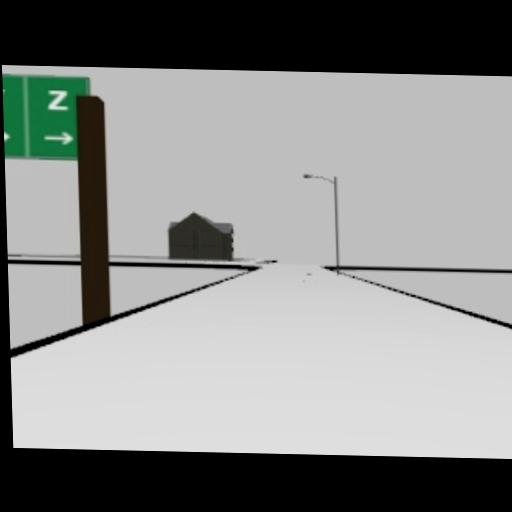Right: (42, 129, 76, 144), (4, 127, 10, 141)
Y: (3, 86, 5, 102)
Z: (46, 87, 70, 109)
